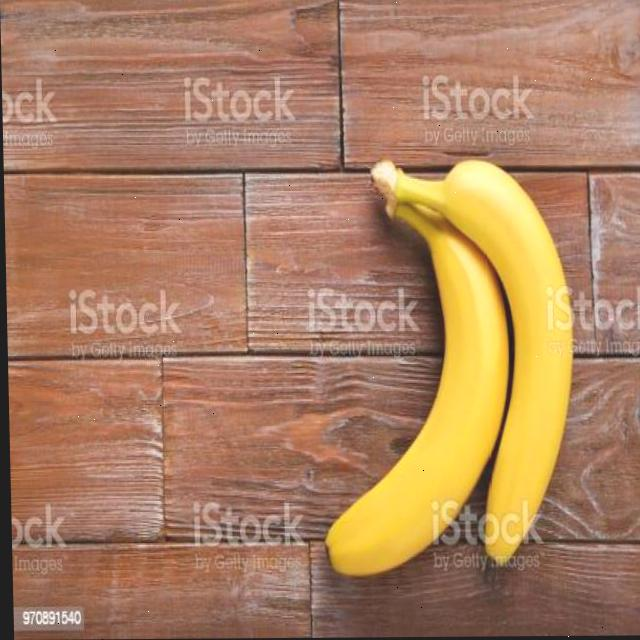banana: (311, 151, 584, 590)
